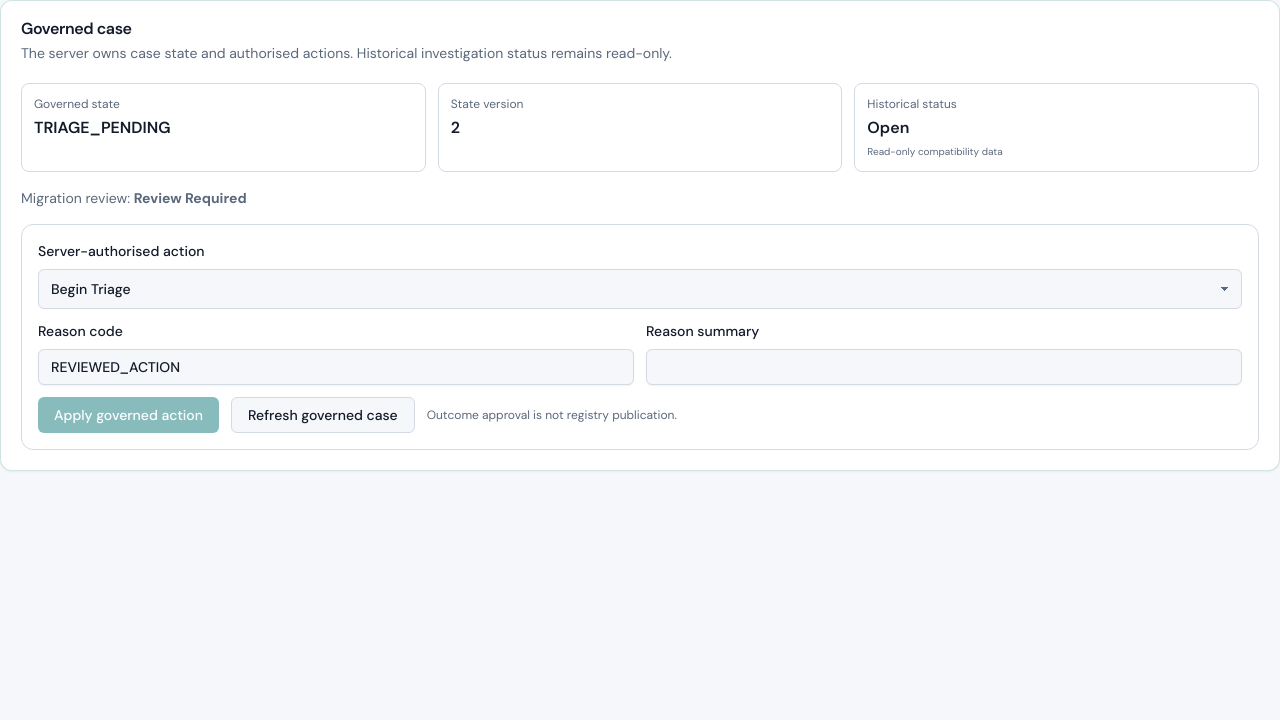
Test: governed desktop case panel › submits the loaded version with a fresh key and refreshes after success
The image size is (1280, 720).
In the field named "Governed reason summary": (944, 367) [646,349,1242,385], type "Reviewed by the assigned investigator."
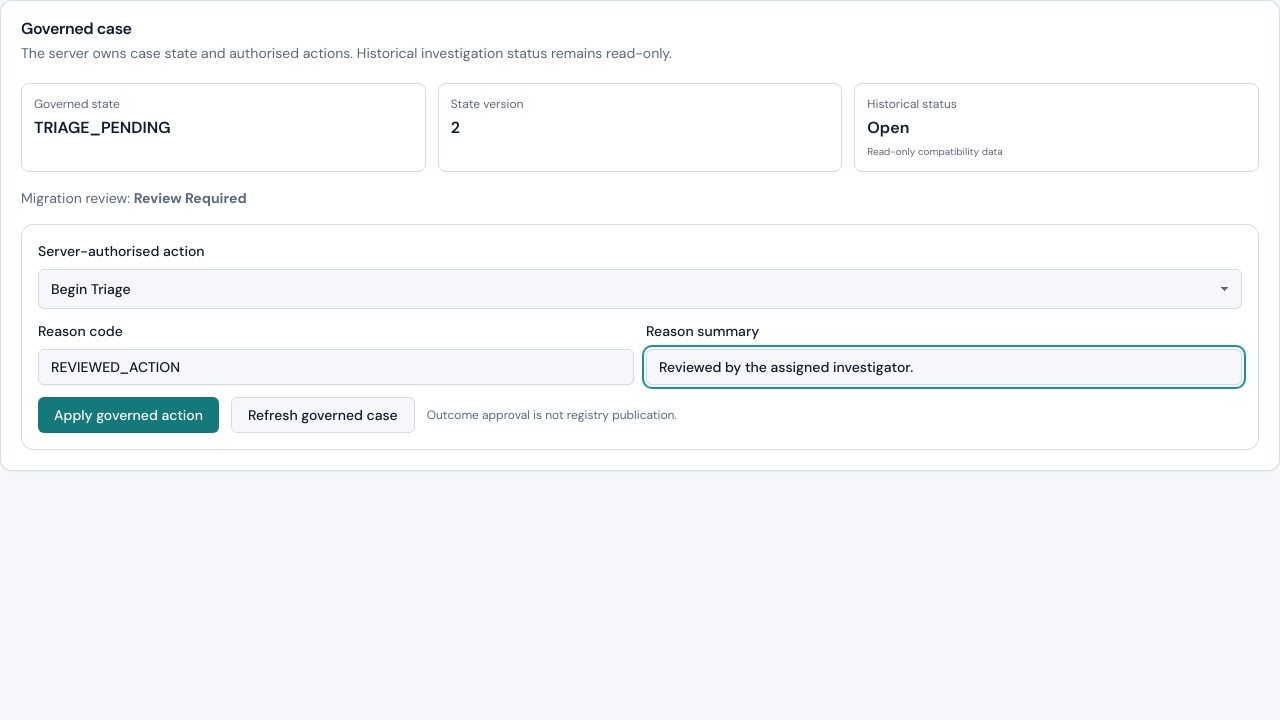
Click the button "Apply governed action": (128, 415) [38,397,219,433]
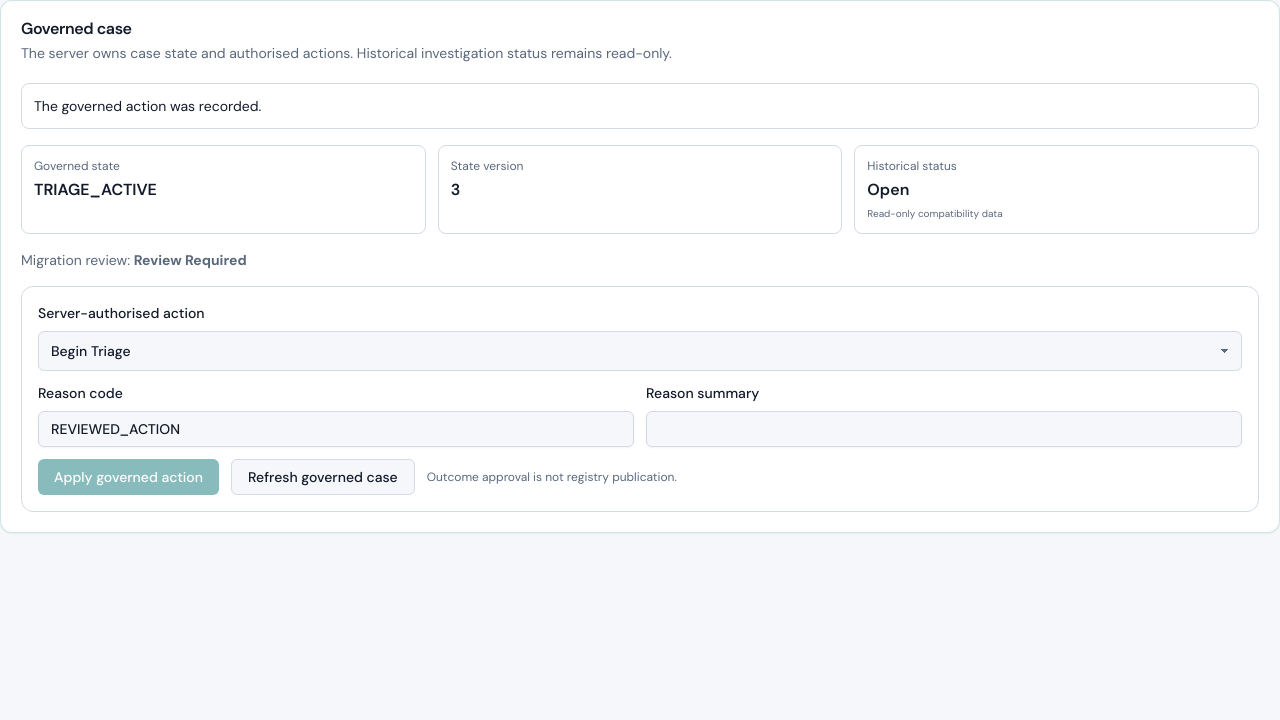
Expected: the text "TRIAGE_ACTIVE" is shown, [34,179,157,200]
Expected: the text "The governed action was recorded." is shown, [21,83,1259,129]
